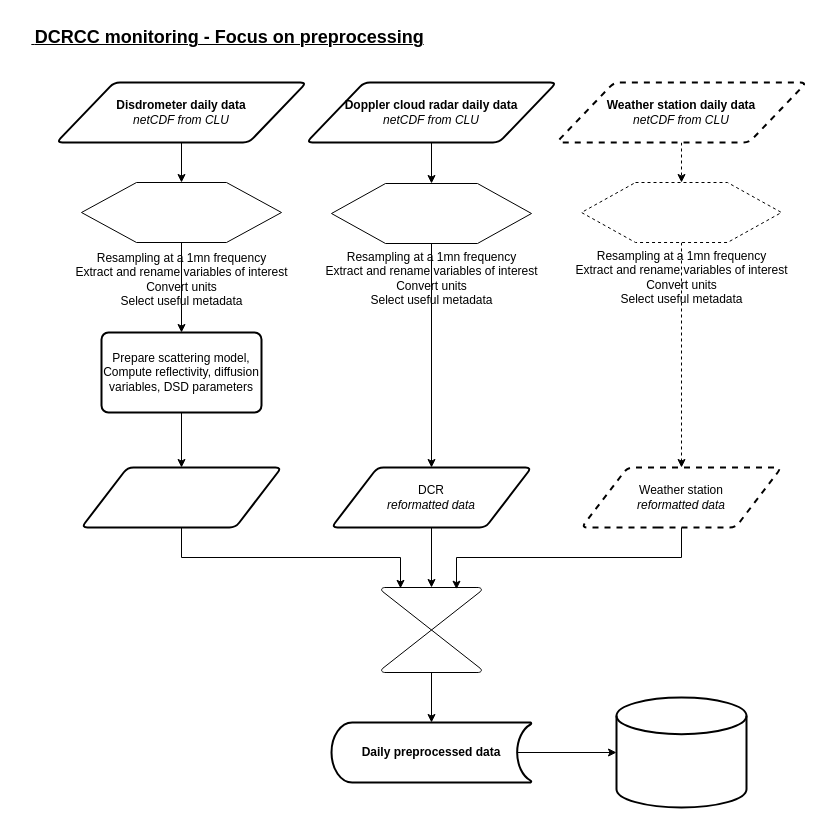
The diagram is 824 pixels wide and 825 high, and some of its shapes have lost their labels. Here are the shapes that lost their labels. From the top down, the centre of each, then its label:
point (181, 497): Disdrometer preprocessed data
point (681, 752): Database for preprocessed files storage
